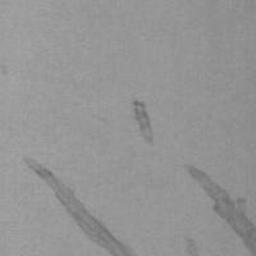Water spot: (20, 154, 138, 256), (182, 164, 256, 256), (131, 99, 154, 146), (184, 237, 201, 256)
